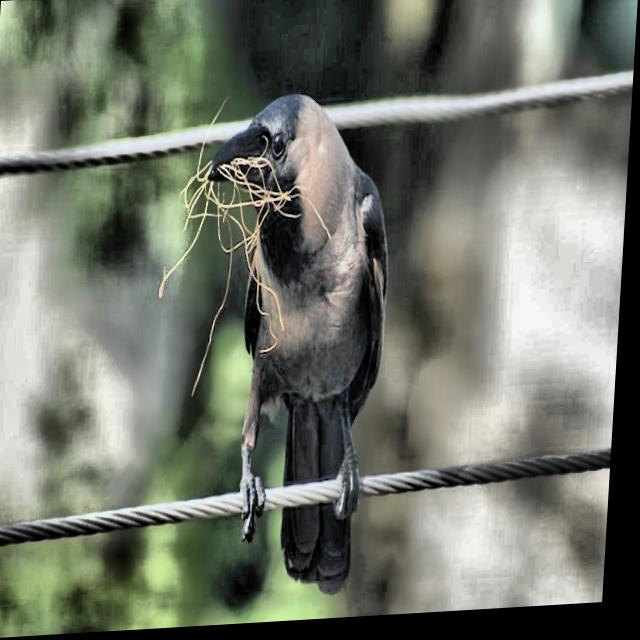crow: (159, 83, 402, 611)
